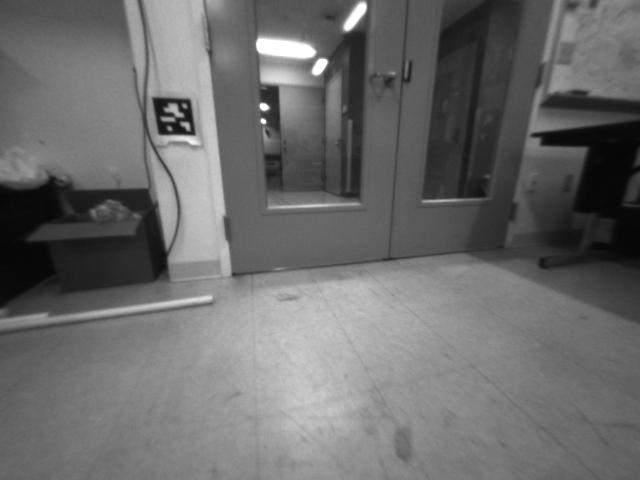door_handle: (369, 68, 397, 85)
